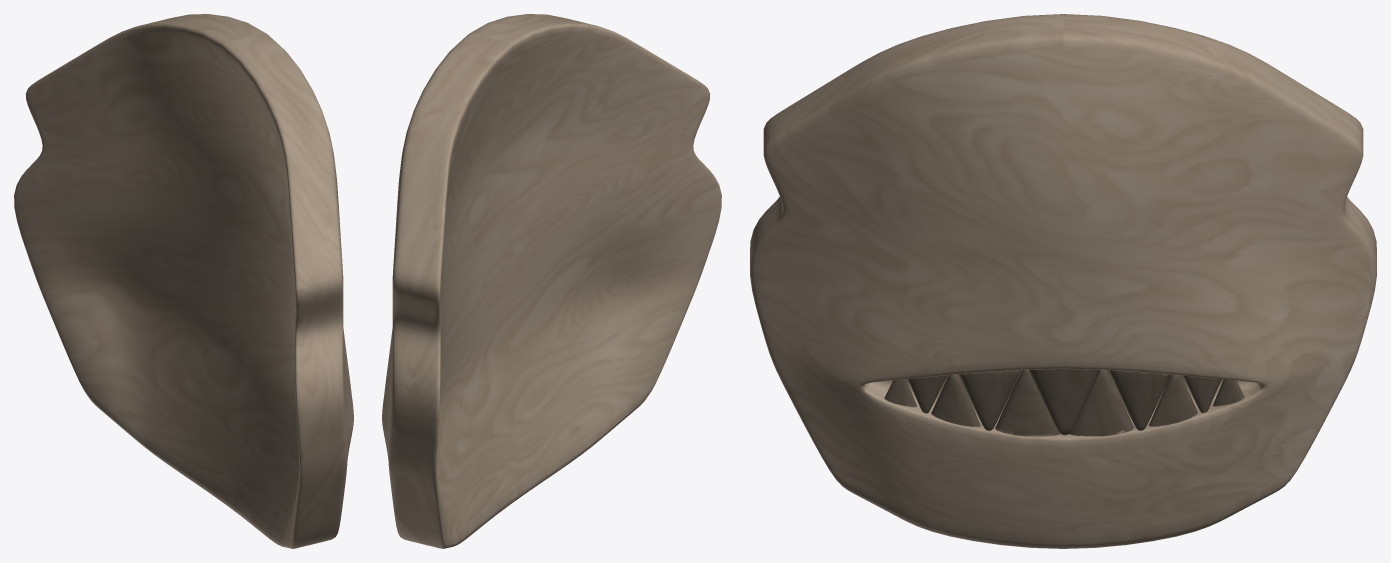
Rendered from base alien bas.fbx.
3 views of the same model, side by side, from view 1: azimuth 30°, elevation 25°; view 2: azimuth 150°, elevation 25°; view 3: azimuth 270°, elevation 25° (orthographic). The views are drawn at different scales.
Parts seen in each view (by area): view 1: Base alien bas LOW; view 2: Base alien bas LOW; view 3: Base alien bas LOW.
Part boxes in pixels (x1=…): Base alien bas LOW: x1=14, y1=14, x2=353, y2=548; Base alien bas LOW: x1=382, y1=14, x2=721, y2=548; Base alien bas LOW: x1=750, y1=14, x2=1376, y2=548.
Bounding box in the file's own units: 15.13 × 47.99 × 53.21.
Materials: 1 (1 with a texture image).
